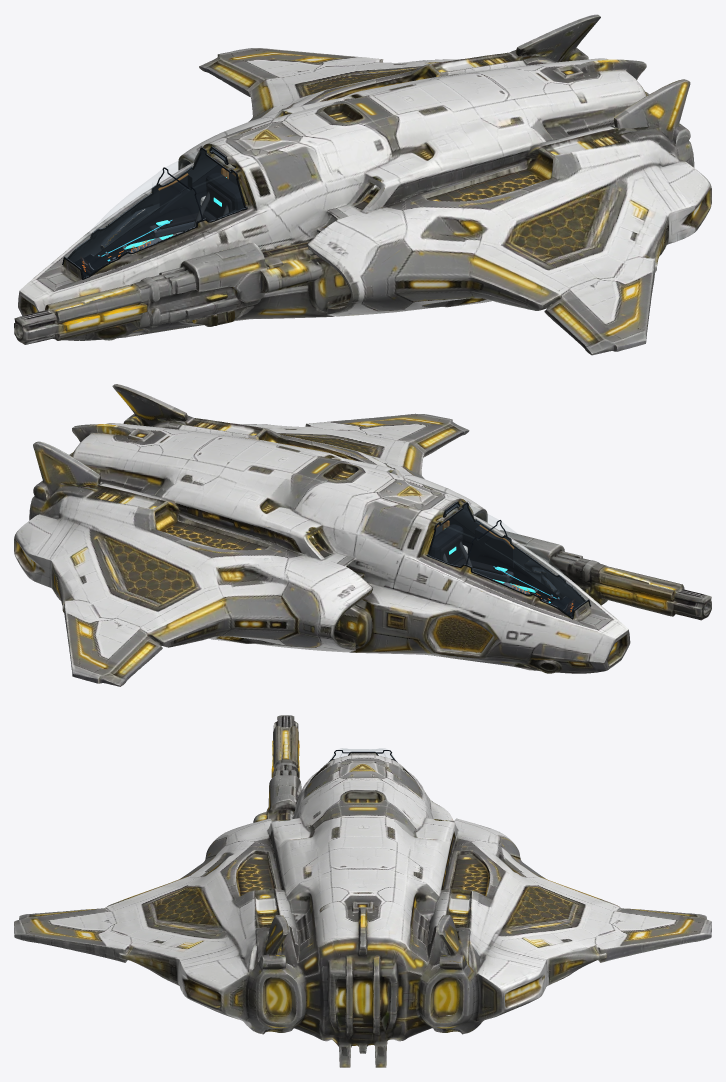
Rendered from puncture_cockpit_v07.glb.
3 views of the same model, one above another, from view 1: azimuth 30°, elevation 25°; view 2: azimuth 150°, elevation 25°; view 3: azimuth 270°, elevation 25° (orthographic). The views are drawn at different scales.
Visible parts, largest first — view 1: Puncture_Hull_01_Glazed, LIN13_puncture_ConformalCabinShell, Puncture_v07_L_TaperedSidewall, Puncture_Windshield_Glass, GL11_puncture_CanopyGasket_0, Puncture_v07_HeadrestShell, Puncture_v07_L_InnerSillLiner, GL11_puncture_AftCanopyArch, GL11_puncture_CanopyFrame_0; view 2: Puncture_Hull_01_Glazed, Puncture_v07_R_TaperedSidewall, LIN13_puncture_ConformalCabinShell, Puncture_Windshield_Glass, GL11_puncture_CanopyGasket_0, Puncture_v07_R_InnerSillLiner, Puncture_v07_HeadrestShell; view 3: Puncture_Hull_01_Glazed.
Boxes of the visible parts, <box> form: Puncture_Hull_01_Glazed: <box>14,14,711,355</box>; LIN13_puncture_ConformalCabinShell: <box>69,149,324,262</box>; Puncture_v07_L_TaperedSidewall: <box>94,164,222,260</box>; Puncture_Windshield_Glass: <box>66,149,230,257</box>; GL11_puncture_CanopyGasket_0: <box>62,147,247,279</box>; Puncture_v07_HeadrestShell: <box>205,172,244,210</box>; Puncture_v07_L_InnerSillLiner: <box>159,175,192,212</box>; GL11_puncture_AftCanopyArch: <box>74,167,202,277</box>; GL11_puncture_CanopyFrame_0: <box>64,146,246,277</box>; Puncture_Hull_01_Glazed: <box>14,384,711,686</box>; Puncture_v07_R_TaperedSidewall: <box>448,517,562,601</box>; LIN13_puncture_ConformalCabinShell: <box>436,503,583,617</box>; Puncture_Windshield_Glass: <box>441,503,587,599</box>; GL11_puncture_CanopyGasket_0: <box>426,501,591,619</box>; Puncture_v07_R_InnerSillLiner: <box>475,526,513,567</box>; Puncture_v07_HeadrestShell: <box>429,524,463,558</box>; Puncture_Hull_01_Glazed: <box>14,715,711,1067</box>.
Size of the model in its own units: 1.85 by 0.461 by 1.9.
21 materials, 1 textured.
